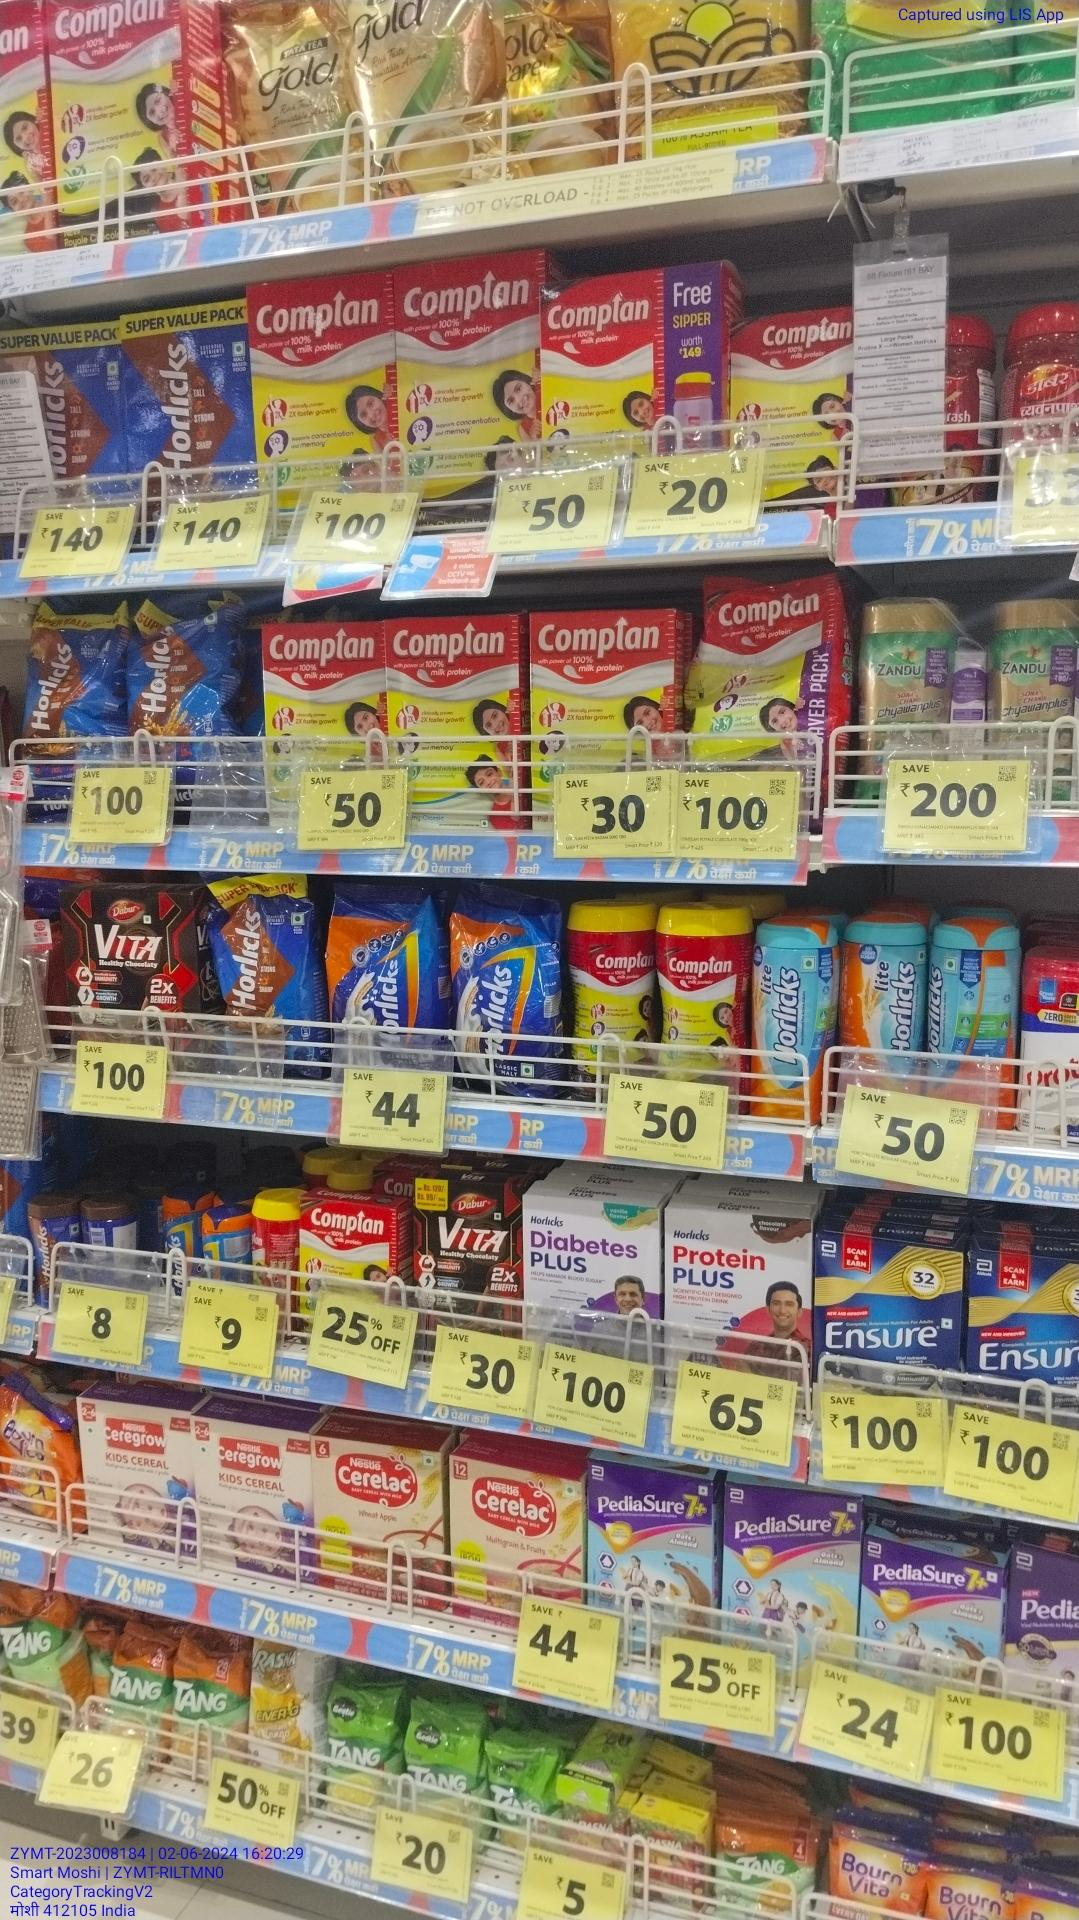COMPLAN_CHOCOLATE_500_GMS_JAR: (660, 903, 749, 1076)
COMPLAN_RC_POUCH_700_GMS_12: (690, 576, 835, 758)
HORLICKS_LITE_REGULAR_MALT_500_GM_JAR: (755, 919, 836, 1120), (839, 918, 919, 1091)
HORLICK_CHOCOLATE_1_KG_PACK: (120, 299, 245, 495)
HORLICK_CHOCOLATE_750_G_POUCH: (21, 599, 123, 765)
